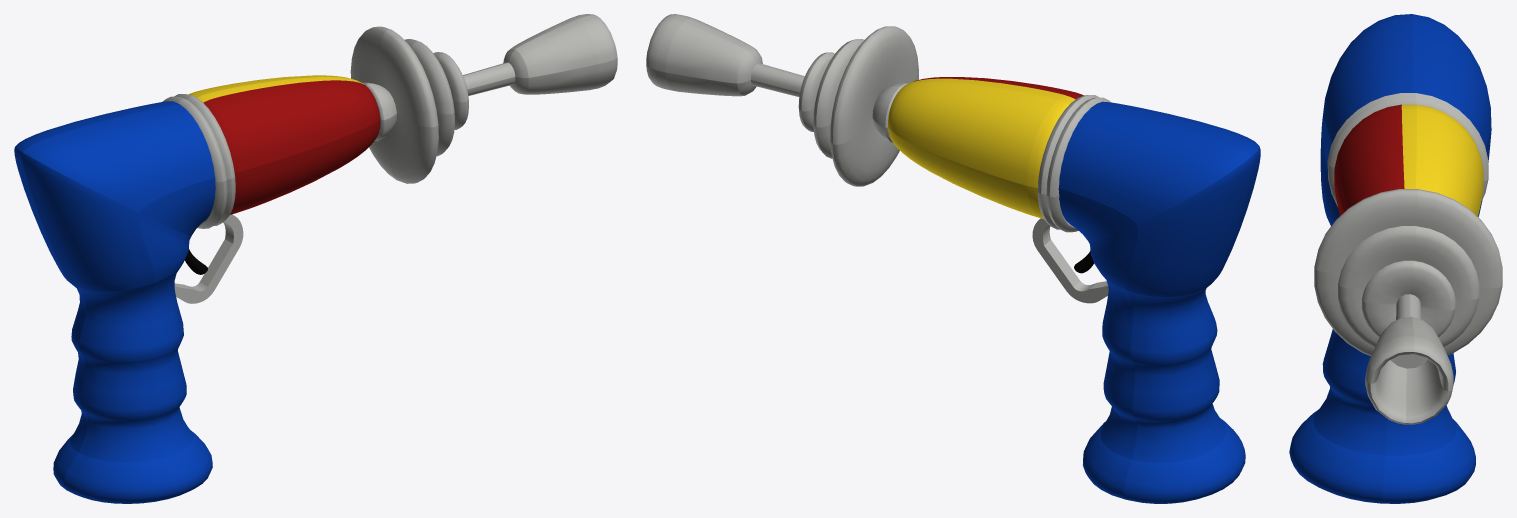
The model's file is Gun.fbx.
The picture shows the model from 3 angles, left to right: view 1: azimuth 30°, elevation 25°; view 2: azimuth 150°, elevation 25°; view 3: azimuth 270°, elevation 25°; orthographic projection. The views are drawn at different scales.
Parts seen in each view (by area): view 1: gun rear, gun front, barrel, trigger2, trim 1, trim2; view 2: gun rear, gun front, barrel, trigger2, trim 1, trim2; view 3: gun front, gun rear, barrel, trim2, trim 1.
Boxes of the visible parts, bbox=[...] form: gun rear: bbox=[14, 101, 215, 503]; gun front: bbox=[350, 14, 617, 183]; barrel: bbox=[189, 75, 380, 214]; trigger2: bbox=[174, 214, 243, 303]; trim 1: bbox=[162, 96, 227, 228]; trim2: bbox=[174, 94, 235, 225]; gun rear: bbox=[1058, 101, 1260, 503]; gun front: bbox=[646, 14, 918, 186]; barrel: bbox=[888, 77, 1083, 218]; trigger2: bbox=[1032, 218, 1108, 303]; trim 1: bbox=[1046, 97, 1111, 232]; trim2: bbox=[1037, 95, 1099, 229]; gun front: bbox=[1314, 189, 1502, 424]; gun rear: bbox=[1289, 14, 1491, 503]; barrel: bbox=[1334, 104, 1483, 216]; trim2: bbox=[1328, 97, 1488, 206]; trim 1: bbox=[1327, 93, 1488, 168].
Size of the model in its own units: 0.5764 by 0.3572 by 0.1572.
